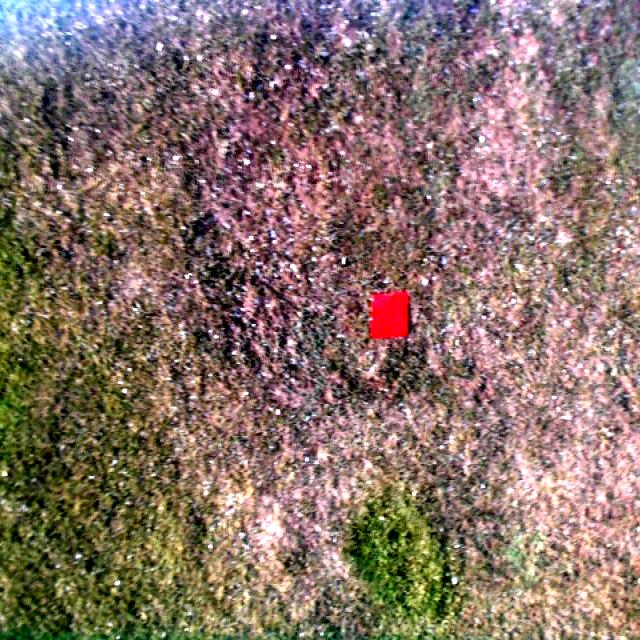red_square: (371, 291, 409, 337)
